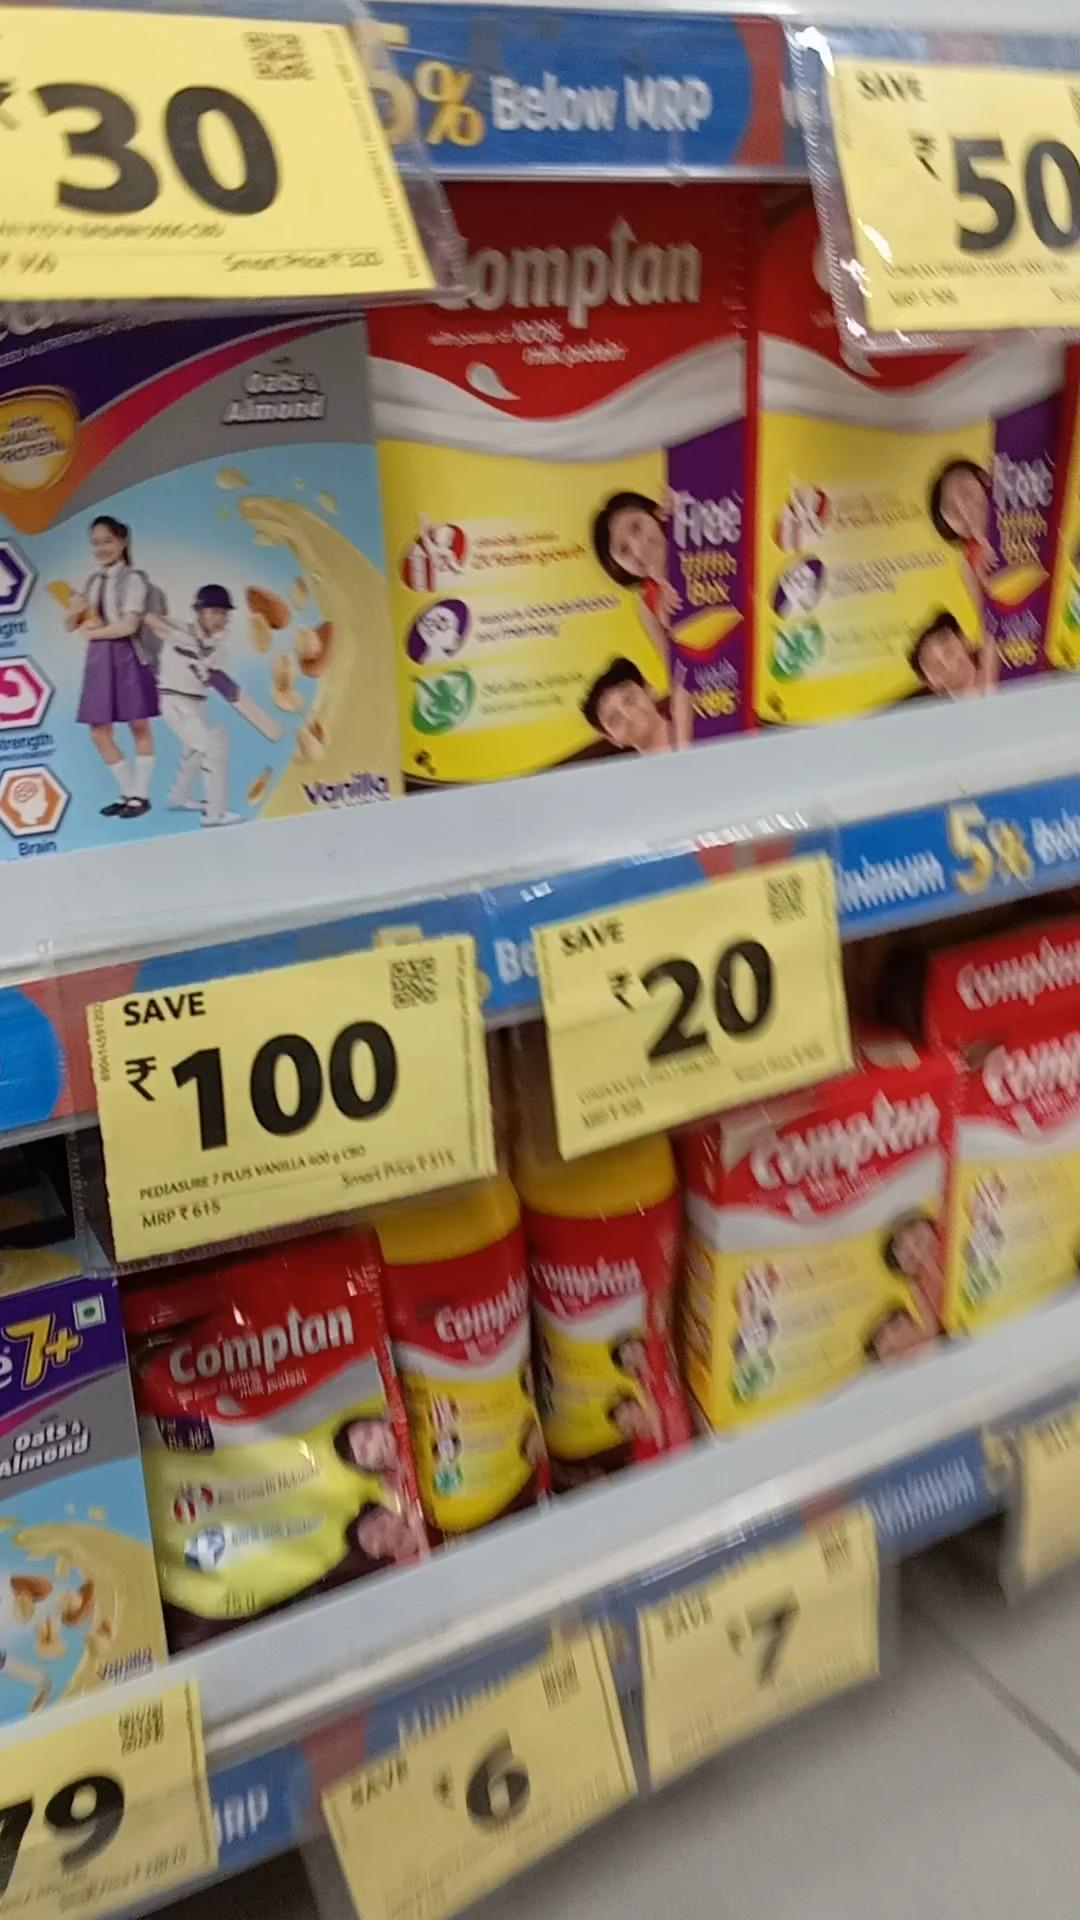COMPLAN_CHOCOLATE_500_GMS_JAR: (409, 1211, 542, 1516), (554, 1151, 682, 1457)
COMPLAN_CHOCOLATE_500_GMS_PACK: (407, 186, 748, 753), (764, 342, 1043, 683)
